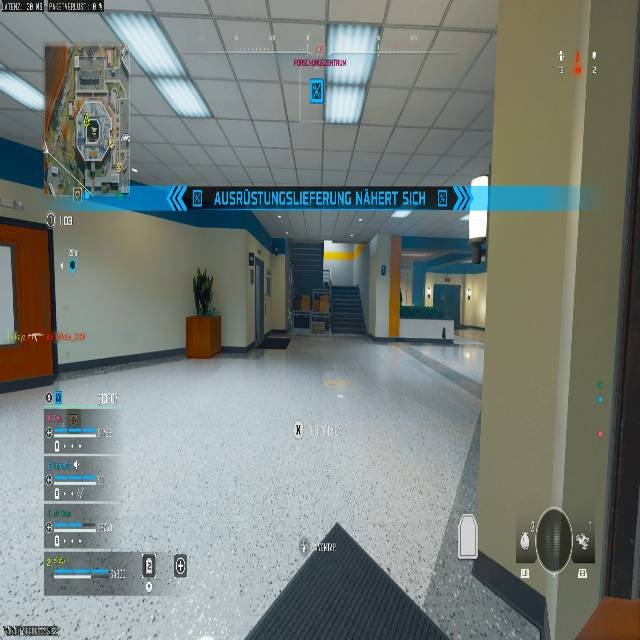player: (191, 267, 213, 316)
